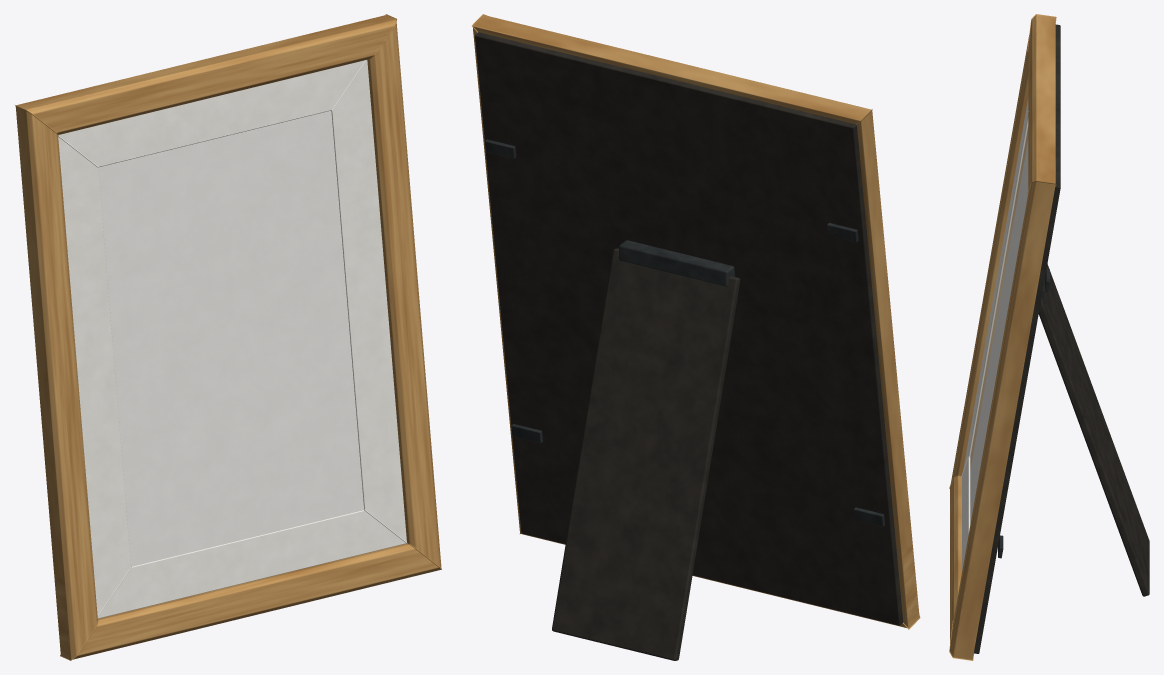
Rendered from portarretrato_2.gltf.
3 renders of one model, left to right at view 1: azimuth 30°, elevation 25°; view 2: azimuth 150°, elevation 25°; view 3: azimuth 270°, elevation 25°, orthographic. The views are drawn at different scales.
Parts seen in each view (by area): view 1: foto, cristal, liston.003, paspartu.001, liston.001, paspartu.003, liston.002, paspartu, liston, paspartu.002; view 2: respaldo, soporte, liston.003, liston.002, bisagra, liston.001; view 3: liston.001, soporte, liston.003, liston.002, cristal, respaldo, foto, paspartu.003, liston, paspartu.
Part boxes in pixels (left/top/right/bottom): foto: left=98, top=111, right=363, bottom=566; cristal: left=98, top=111, right=363, bottom=566; liston.003: left=15, top=105, right=98, bottom=660; paspartu.001: left=331, top=60, right=406, bottom=542; liston.001: left=367, top=22, right=441, bottom=568; paspartu.003: left=58, top=136, right=131, bottom=616; liston.002: left=16, top=14, right=396, bottom=134; paspartu: left=97, top=509, right=406, bottom=618; liston: left=73, top=543, right=441, bottom=659; paspartu.002: left=58, top=60, right=366, bottom=167; respaldo: left=475, top=32, right=903, bottom=625; soporte: left=552, top=248, right=740, bottom=660; liston.003: left=857, top=110, right=920, bottom=629; liston.002: left=472, top=14, right=872, bottom=124; bisagra: left=619, top=240, right=735, bottom=286; liston.001: left=473, top=28, right=521, bottom=533; liston.001: left=949, top=181, right=1056, bottom=660; soporte: left=1038, top=264, right=1149, bottom=596; liston.003: left=951, top=35, right=1029, bottom=481; liston.002: left=1027, top=14, right=1056, bottom=190; cristal: left=970, top=130, right=1027, bottom=522; respaldo: left=974, top=24, right=1060, bottom=653; foto: left=970, top=140, right=1028, bottom=523; paspartu.003: left=963, top=98, right=1028, bottom=470; liston: left=949, top=476, right=961, bottom=643; paspartu: left=961, top=456, right=970, bottom=571.
Bounding box in the file's own units: 0.2005 × 0.2688 × 0.1018.
Materials: 7 (6 with a texture image).
